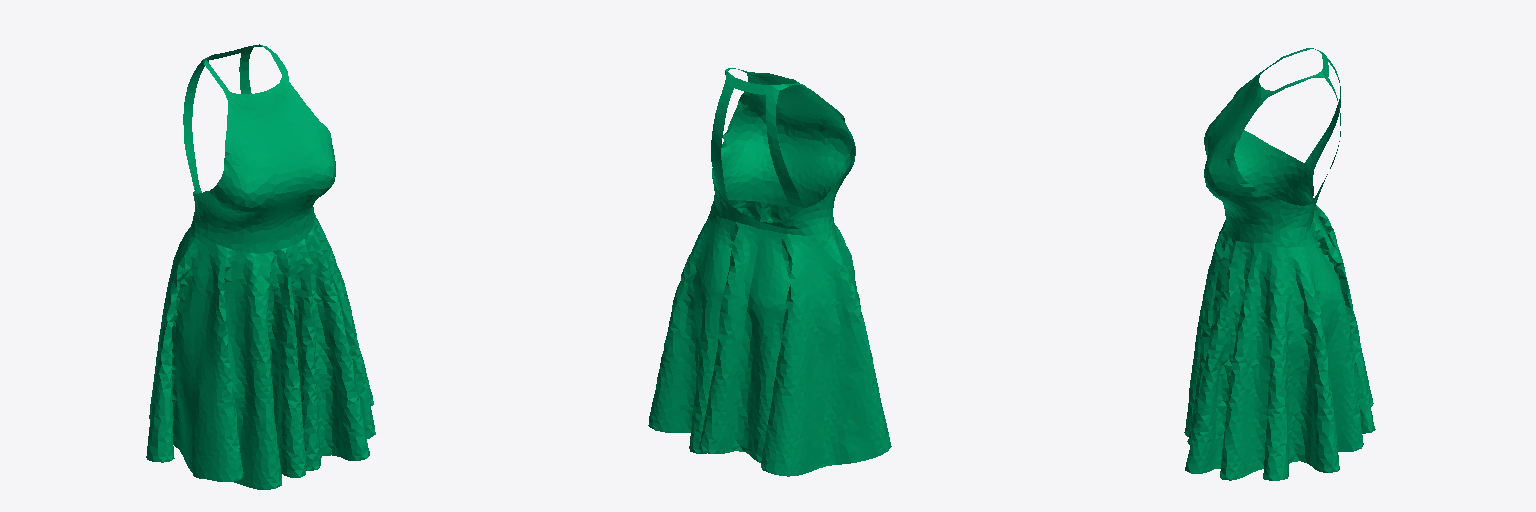
3 renders of one model, left to right at view 1: azimuth 30°, elevation 25°; view 2: azimuth 150°, elevation 25°; view 3: azimuth 270°, elevation 25°, orthographic.
Parts seen in each view (by area): view 1: medium_greenDress:polySurface1; view 2: medium_greenDress:polySurface1; view 3: medium_greenDress:polySurface1.
Part boxes in pixels (x1,y1,x2,y2): medium_greenDress:polySurface1: (146, 44, 375, 489); medium_greenDress:polySurface1: (648, 68, 891, 476); medium_greenDress:polySurface1: (1184, 48, 1375, 480).
Size of the model in its own units: 5.58 by 9.02 by 4.06.
Materials: 9 (1 with a texture image).